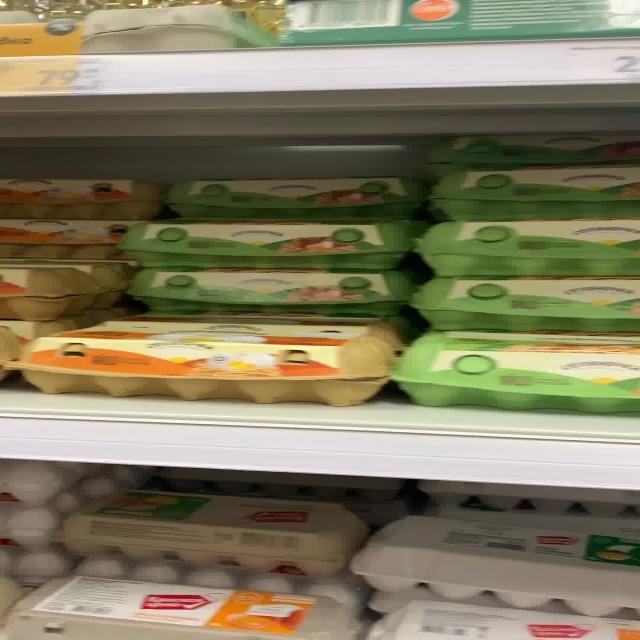egg box: (4, 312, 390, 403), (362, 513, 638, 617), (62, 489, 350, 576), (12, 573, 363, 638), (396, 336, 638, 417), (121, 214, 398, 270), (116, 268, 397, 321), (403, 273, 635, 337), (408, 217, 634, 277), (153, 170, 409, 220), (420, 165, 637, 221), (366, 597, 634, 634), (431, 130, 637, 170)
